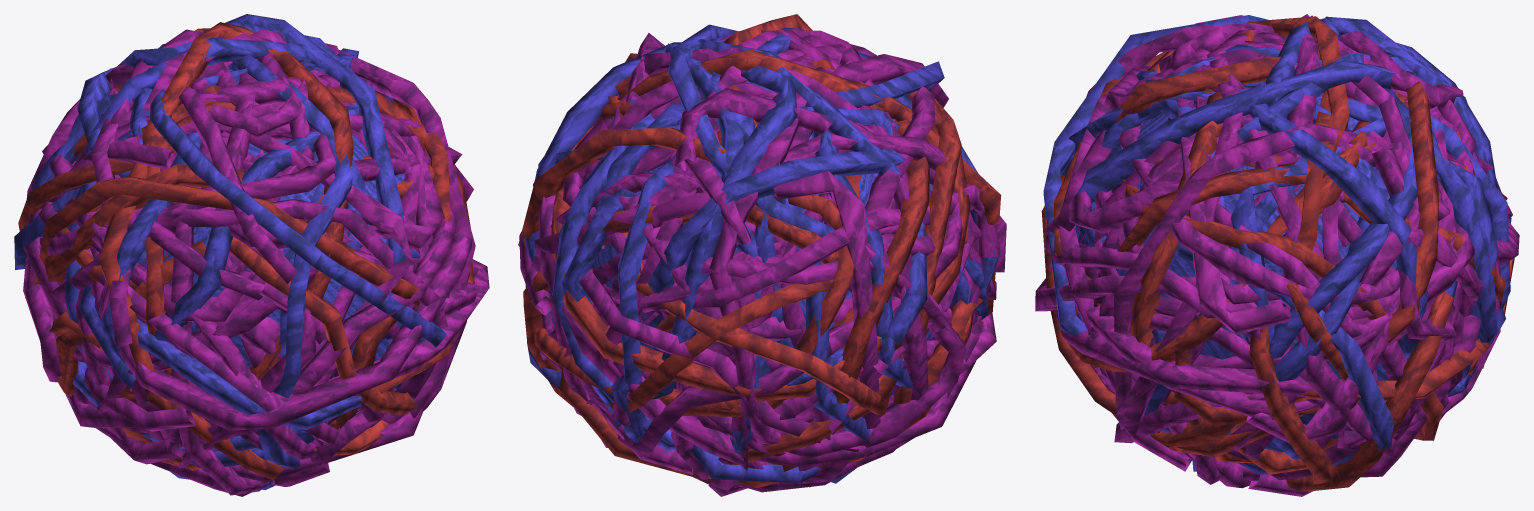
Rendered from ball_of_yarn.fbx.
The picture shows the model from 3 angles, left to right: view 1: azimuth 30°, elevation 25°; view 2: azimuth 150°, elevation 25°; view 3: azimuth 270°, elevation 25°; orthographic projection. The views are drawn at different scales.
Parts seen in each view (by area): view 1: BézierCurve.001, Cube.001; view 2: BézierCurve.001, Cube.001; view 3: BézierCurve.001, Cube.001.
Boxes of the visible parts, box(x1,y1,x2,y2) form: BézierCurve.001: box(14, 14, 489, 496); Cube.001: box(142, 68, 423, 438); BézierCurve.001: box(518, 14, 1006, 496); Cube.001: box(552, 132, 932, 435); BézierCurve.001: box(1035, 14, 1519, 496); Cube.001: box(1078, 81, 1396, 452).
Size of the model in its own units: 408 by 424 by 410.
